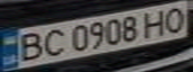0: (66, 21, 90, 53), (103, 16, 127, 46)
8: (118, 12, 145, 43)
9: (87, 19, 109, 49)
B: (9, 29, 48, 63)
C: (36, 26, 69, 57)
H: (139, 7, 172, 38)
O: (160, 3, 190, 34)
